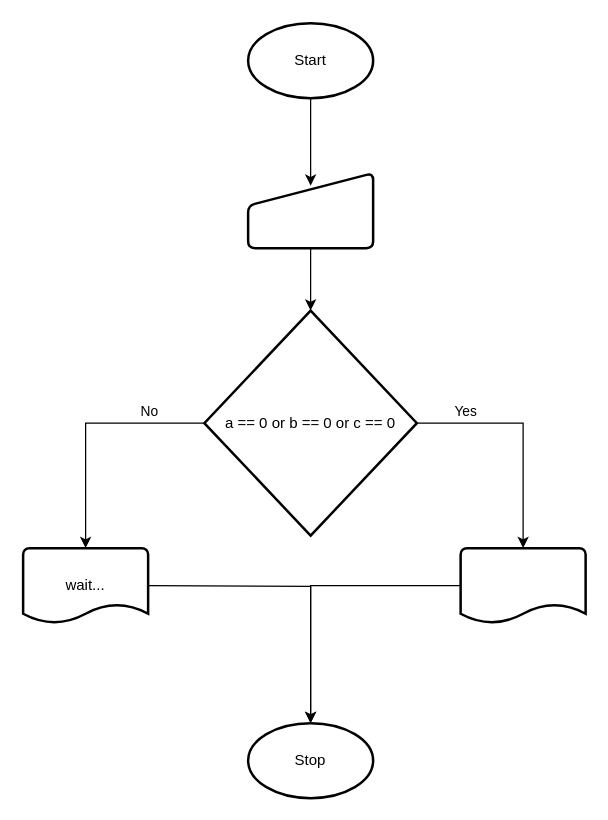
The diagram is 608 pixels wide and 820 high, and some of its shapes have lost their labels. Here are the shapes that lost their labels. From the top down, the centre of each, then its label:
At pixel 310 210: "a,b,c".
At pixel 522 585: "Boom".
